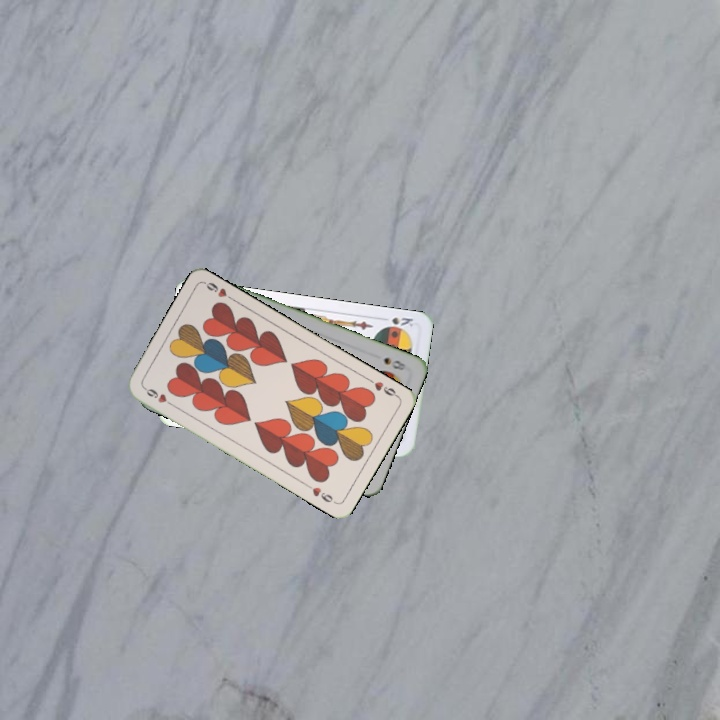H9: (364, 374, 401, 400), (140, 383, 177, 409)
S8: (380, 353, 409, 373)
SK: (380, 313, 416, 332)
